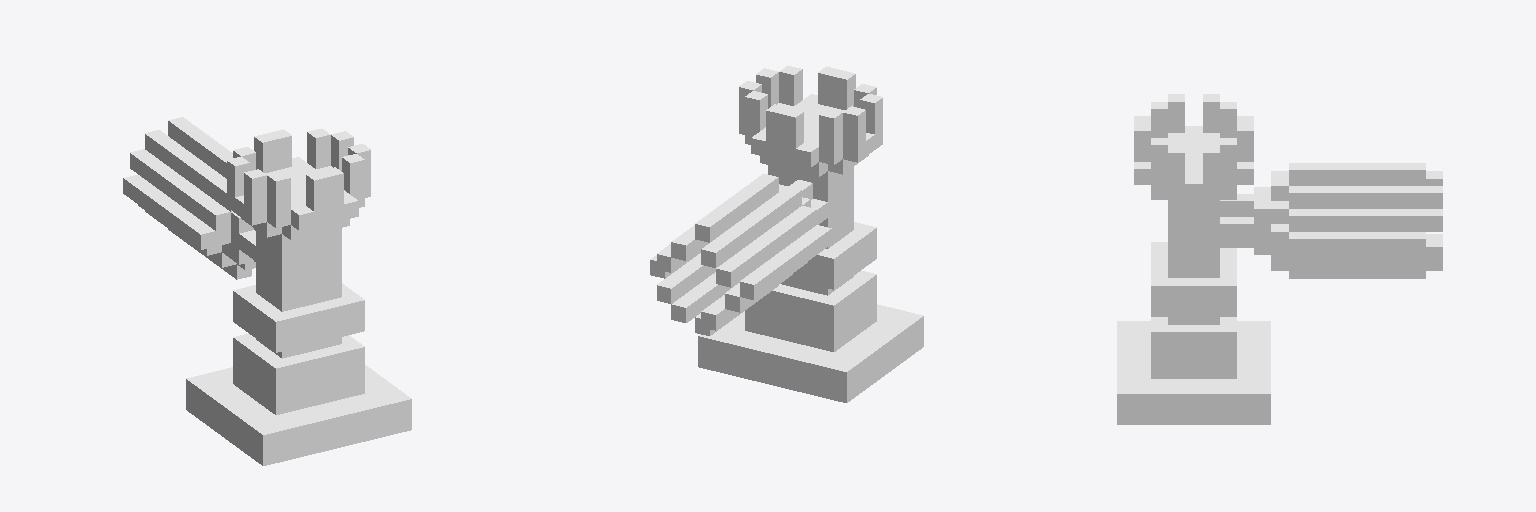
File: tower1export.obj
3 views of the same model, side by side, from view 1: azimuth 30°, elevation 25°; view 2: azimuth 150°, elevation 25°; view 3: azimuth 270°, elevation 25° (orthographic).
Bounding box in the file's own units: 10 × 17 × 19.